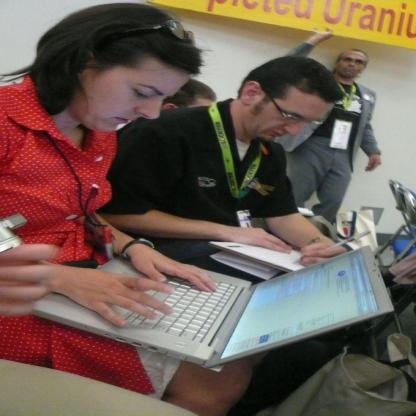board: (36, 245, 394, 364)
